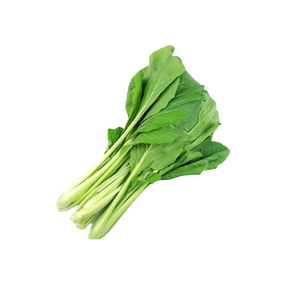Sawi: (55, 44, 234, 247)
